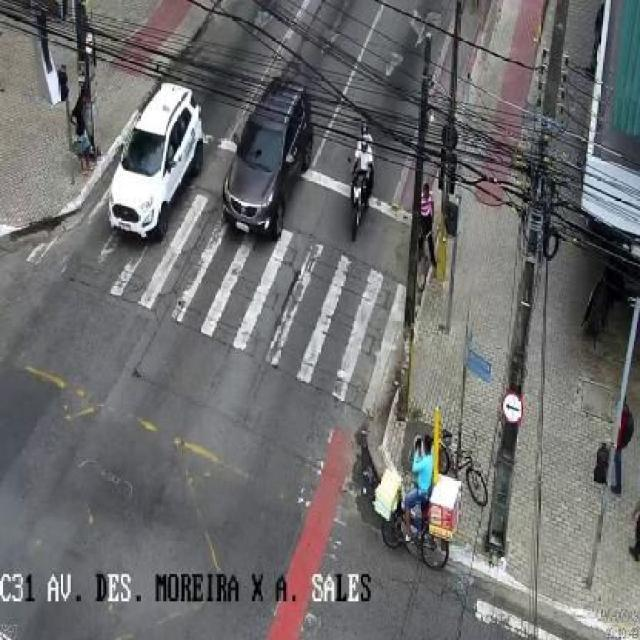Car: (107, 82, 204, 240), (221, 80, 313, 242)
Cycle: (372, 468, 462, 570), (434, 429, 490, 508), (344, 157, 366, 240)
